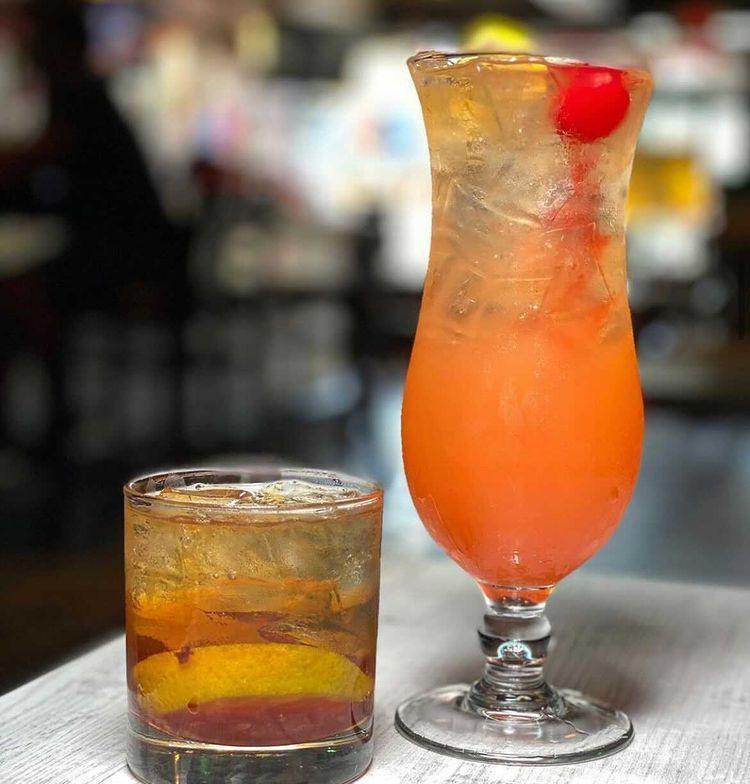glass-normal: (119, 464, 388, 783)
glass-wine: (394, 51, 652, 764)
